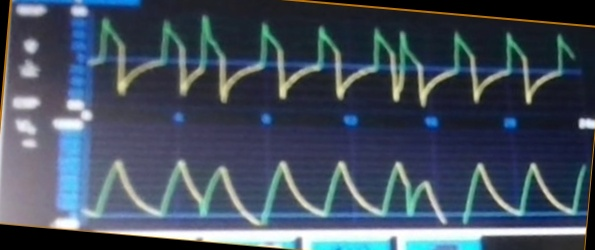Double_Triggering Flow: (97, 15, 541, 108)
Double_Triggering Volume: (96, 148, 571, 225)
